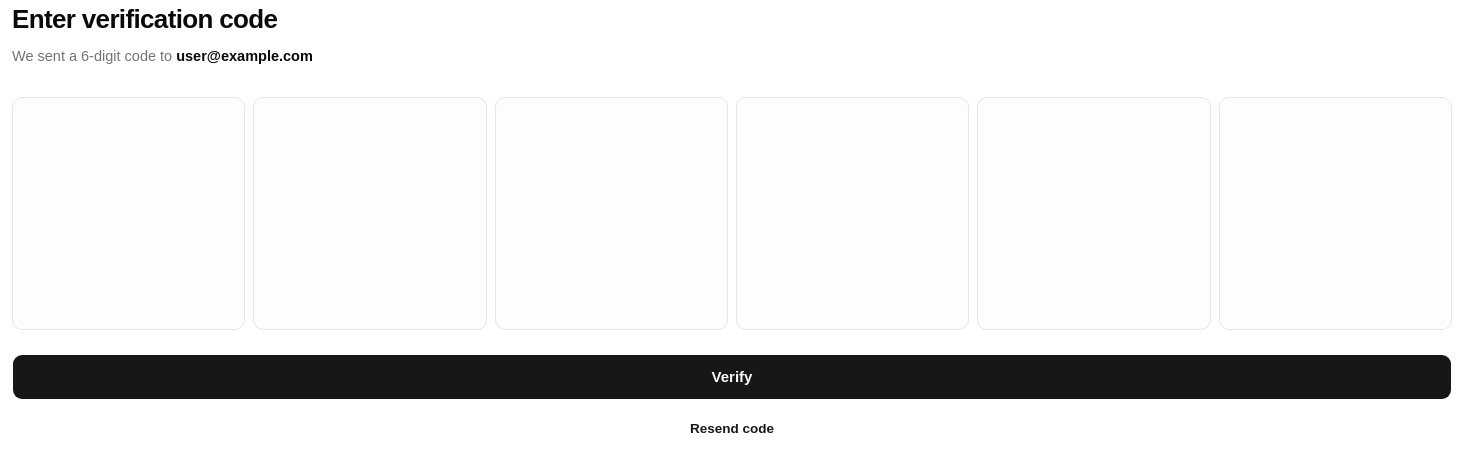
Test: VerifyOtpForm › resends the code and disables the resend button during cooldown
Click the button "Resend code": (732, 429) [689,418,775,440]
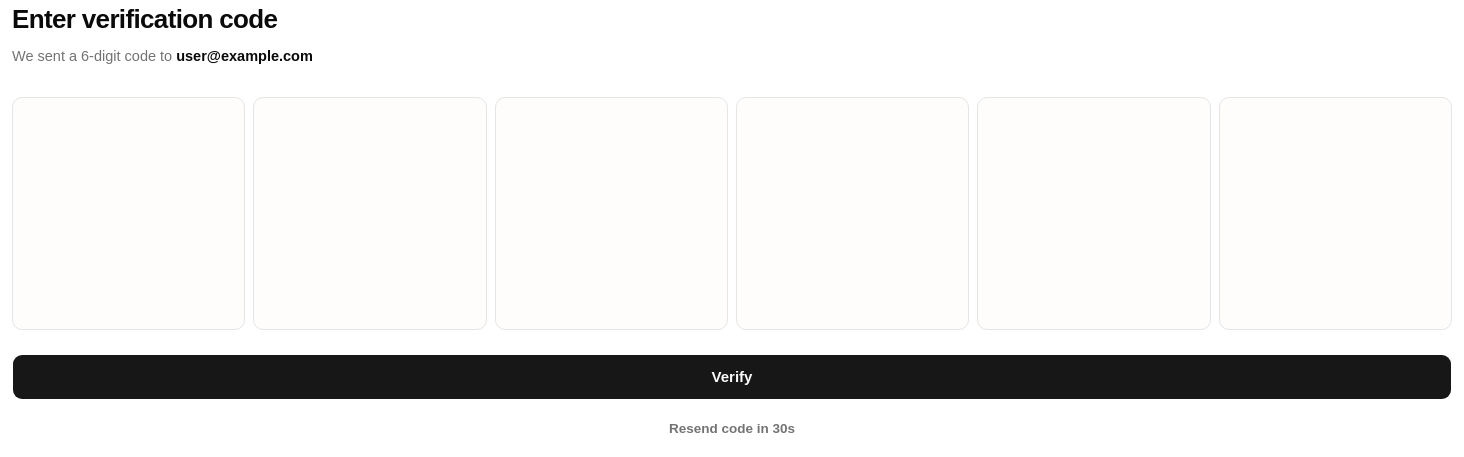
Check: the button "Resend code in 30s" is disabled, box [668,418,796,440]
